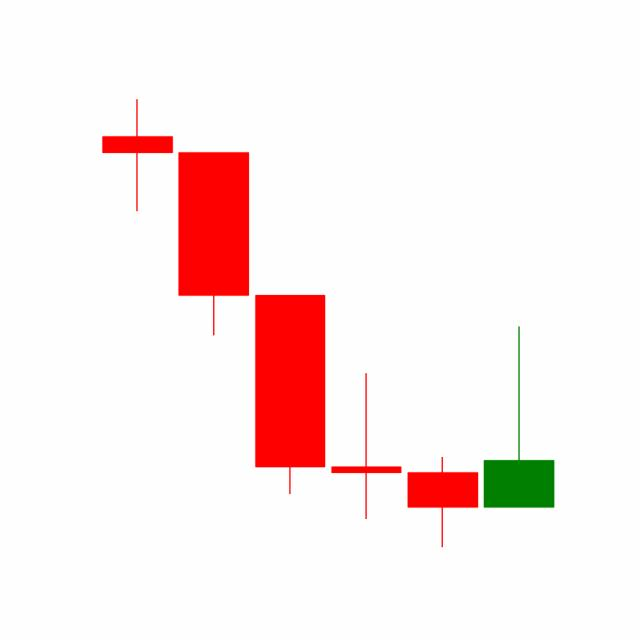Hammer: (403, 455, 481, 548)
